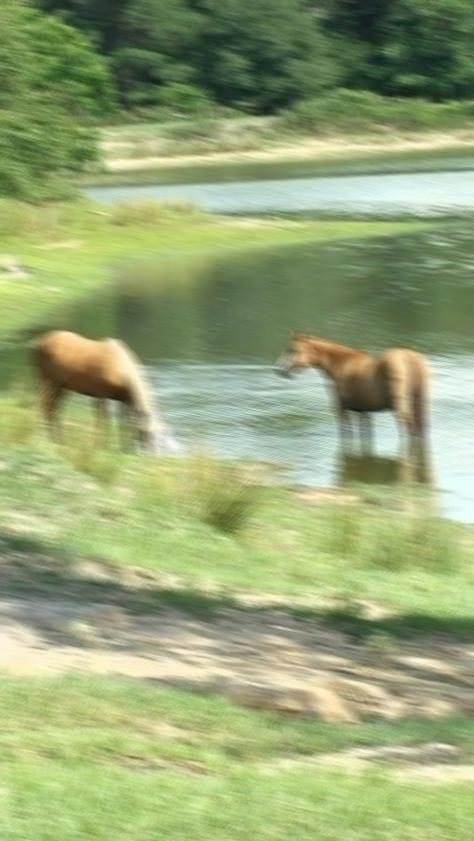horse: (28, 328, 182, 457), (275, 327, 432, 444)
